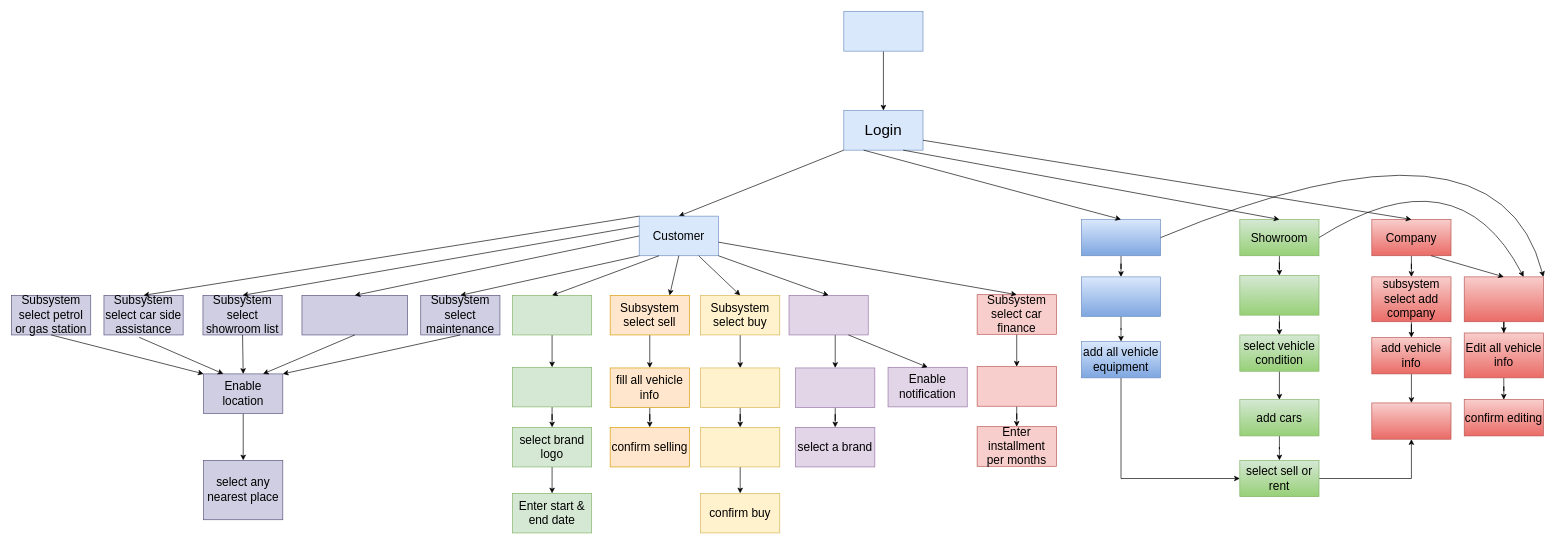
Some shapes in this 1556 by 545 pixel diagram are drawn without their labels. Each missing label, with the centre of its shape:
confirm adding: the point at 1411,420
Enter price: the point at 1016,386
select a filter option: the point at 835,387
select a vehicle: the point at 740,447
select type of user: the point at 883,31
select vehicle type: the point at 552,387
Shop: the point at 1121,237
subsystem select add shop: the point at 1121,296
subsystem select add showroom: the point at 1279,295
subsystem select edit: the point at 1503,299
Subsystem select emergency alerts: the point at 354,315
Subsystem select news: the point at 828,315
Subsystem select rent: the point at 552,315
vehicle condition: the point at 740,387
